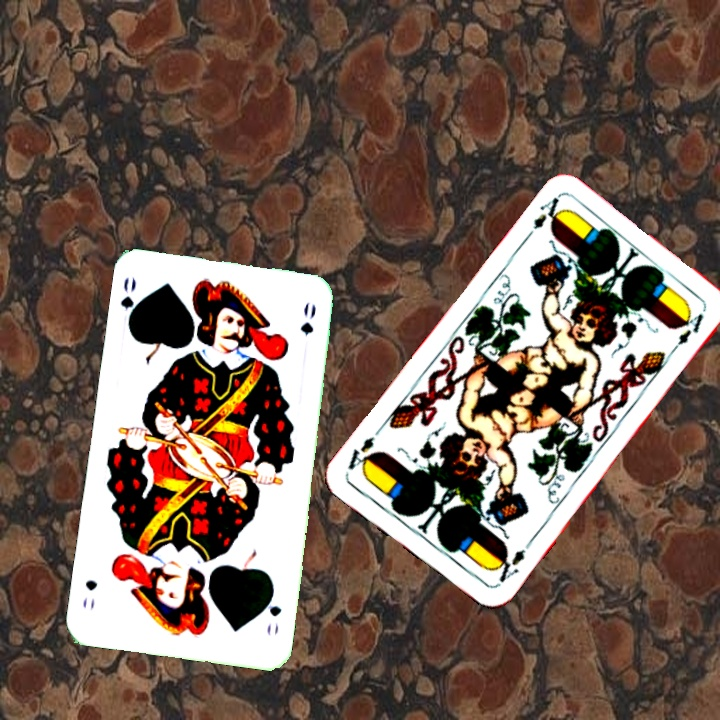EA: (520, 193, 567, 244), (489, 538, 534, 589)
GO: (116, 273, 144, 332), (262, 585, 284, 638)
